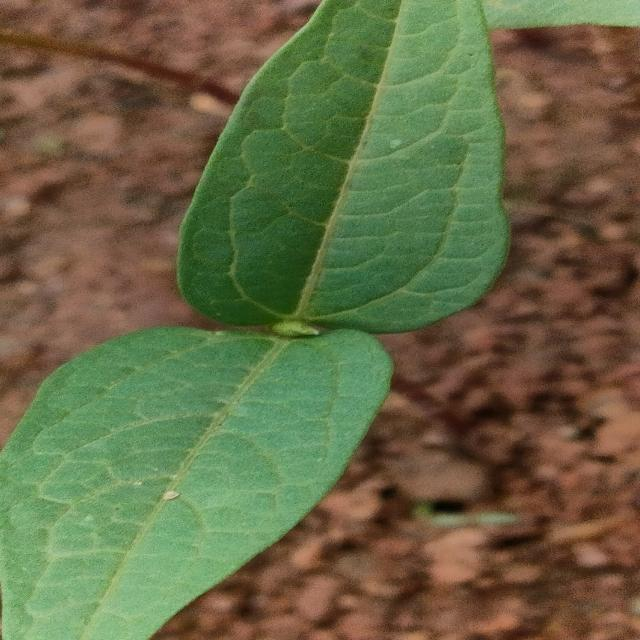Black gram_healthy: (0, 304, 390, 640), (176, 0, 506, 341)
